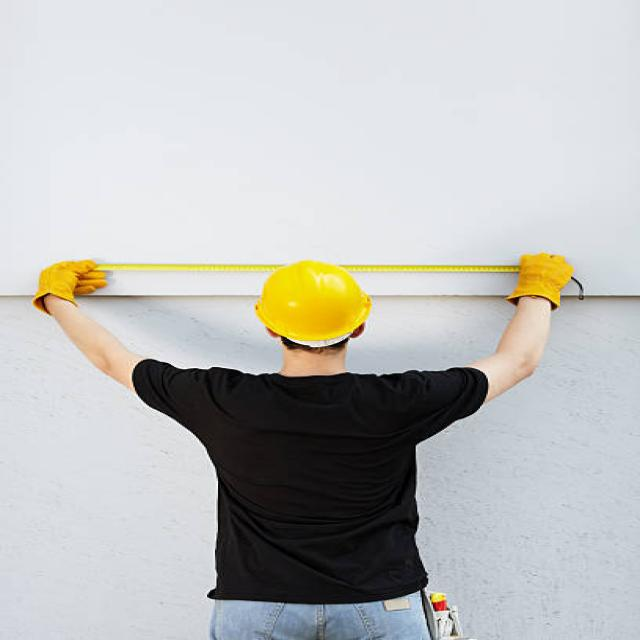gloves: (33, 257, 110, 319), (505, 251, 576, 307)
